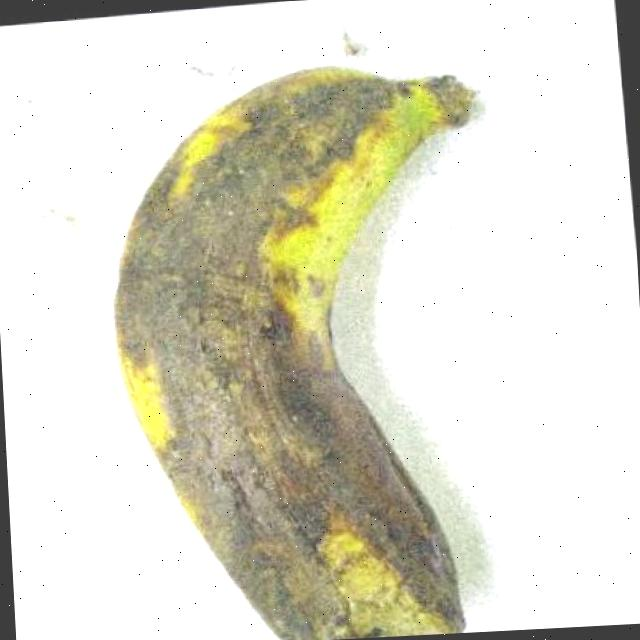Rotten: (92, 41, 589, 640)
